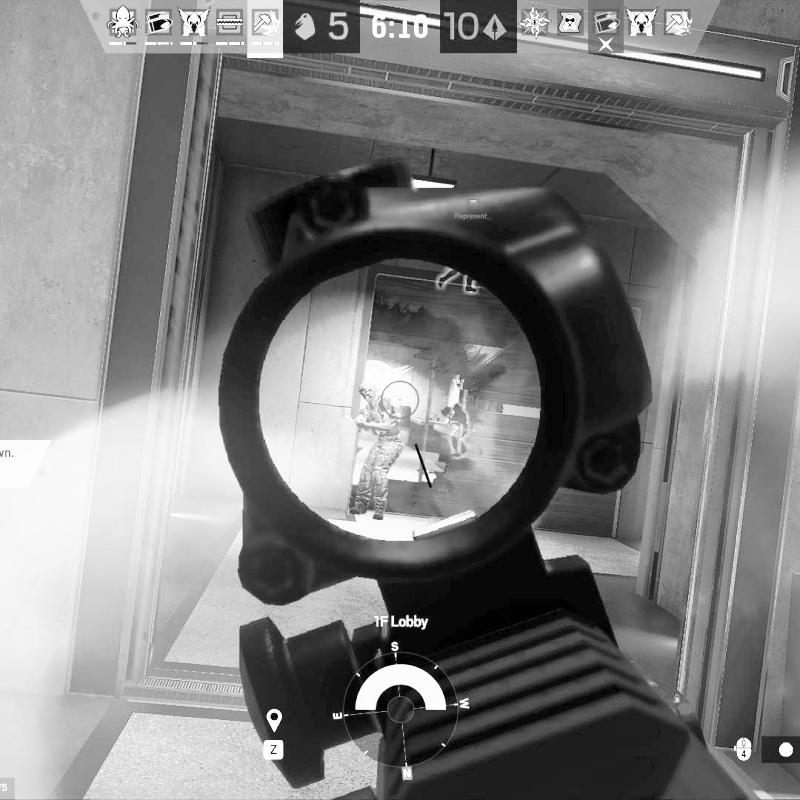Character: (351, 378, 407, 522)
Friend_label: (454, 192, 492, 221), (444, 378, 474, 402)
Head: (359, 380, 382, 405)
